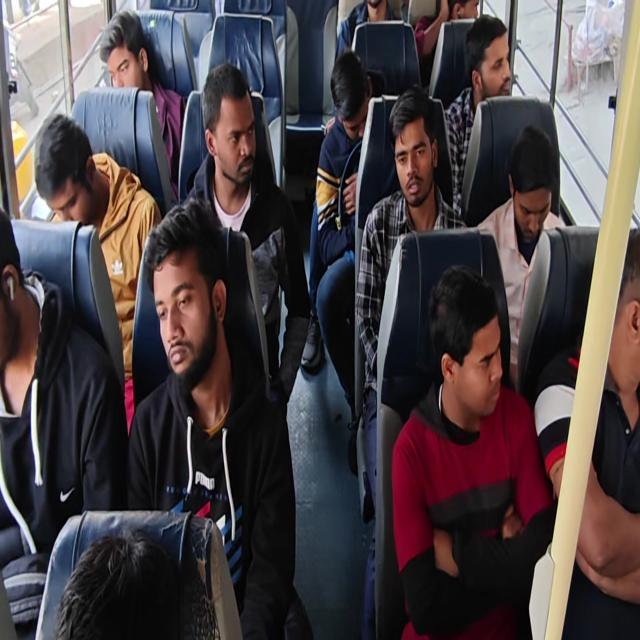person: (56, 534, 215, 640), (428, 247, 512, 443), (148, 204, 230, 386), (501, 116, 568, 245), (384, 87, 456, 206), (196, 57, 257, 187), (28, 106, 94, 222), (604, 211, 640, 390), (1, 194, 40, 355), (466, 14, 517, 107), (328, 52, 379, 140), (97, 7, 146, 92), (441, 0, 492, 29), (362, 2, 399, 24)
